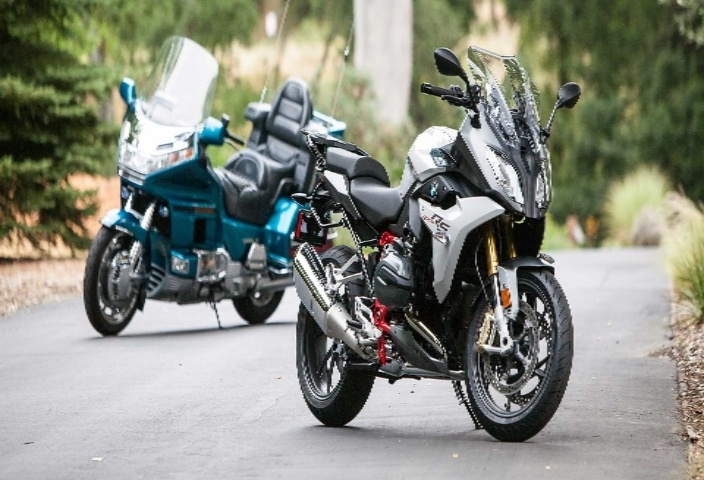motorcycle: (276, 53, 597, 448), (73, 31, 334, 334)
